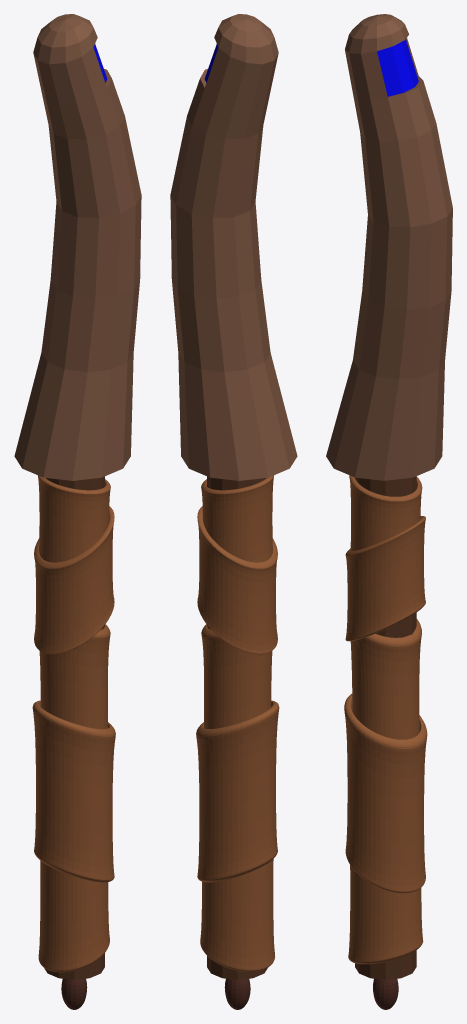
Rendered from Wand 346.glb.
3 views of the same model, side by side, from view 1: azimuth 30°, elevation 25°; view 2: azimuth 150°, elevation 25°; view 3: azimuth 330°, elevation 25° (orthographic).
Parts seen in each view (by area): view 1: GeneratedWand; view 2: GeneratedWand; view 3: GeneratedWand.
Boxes of the visible parts, x1,y1,x2,y2 form: GeneratedWand: (14, 14, 141, 1009); GeneratedWand: (170, 14, 297, 1009); GeneratedWand: (326, 14, 452, 1009).
Bounding box in the file's own units: 0.0644 × 0.537 × 0.0572.
